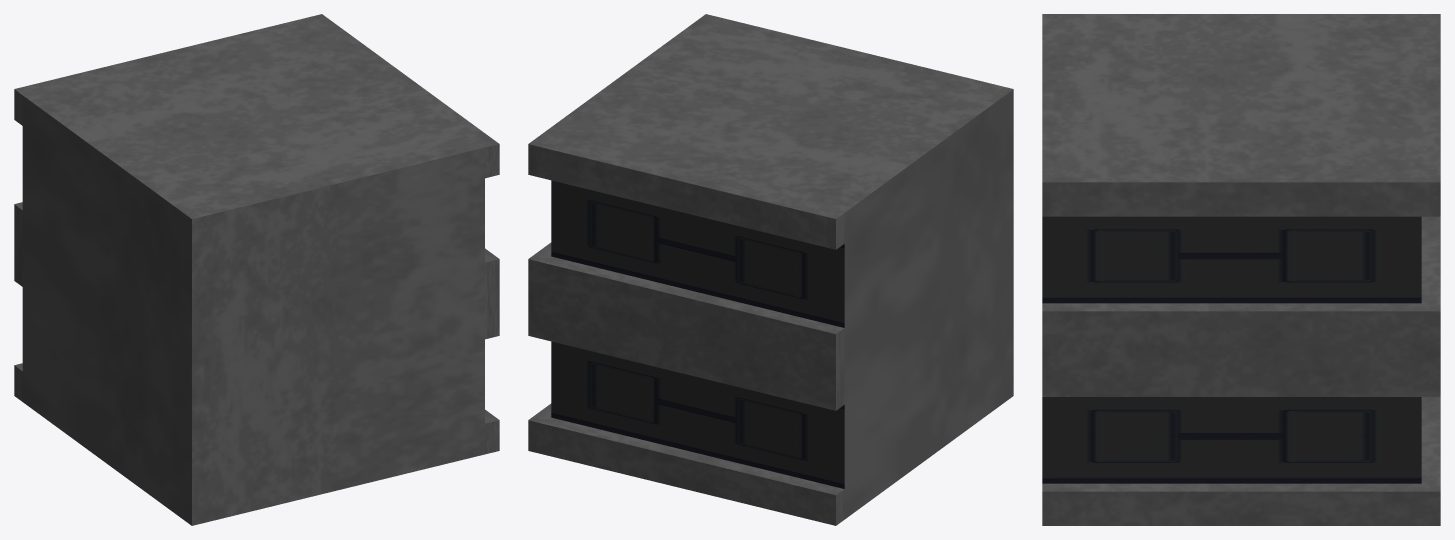
The model's file is tiles_corner_roof_2.glb.
3 views of the same model, side by side, from view 1: azimuth 30°, elevation 25°; view 2: azimuth 150°, elevation 25°; view 3: azimuth 270°, elevation 25° (orthographic). The views are drawn at different scales.
Visible parts, largest first — view 1: RoofCorner.005; view 2: RoofCorner.005; view 3: RoofCorner.005.
Part boxes in pixels (x1,y1,x2,y2): RoofCorner.005: (14, 14, 499, 525); RoofCorner.005: (528, 14, 1013, 525); RoofCorner.005: (1042, 14, 1440, 525).
Bounding box in the file's own units: 2.1 × 2 × 2.1.
2 materials, 2 textured.
